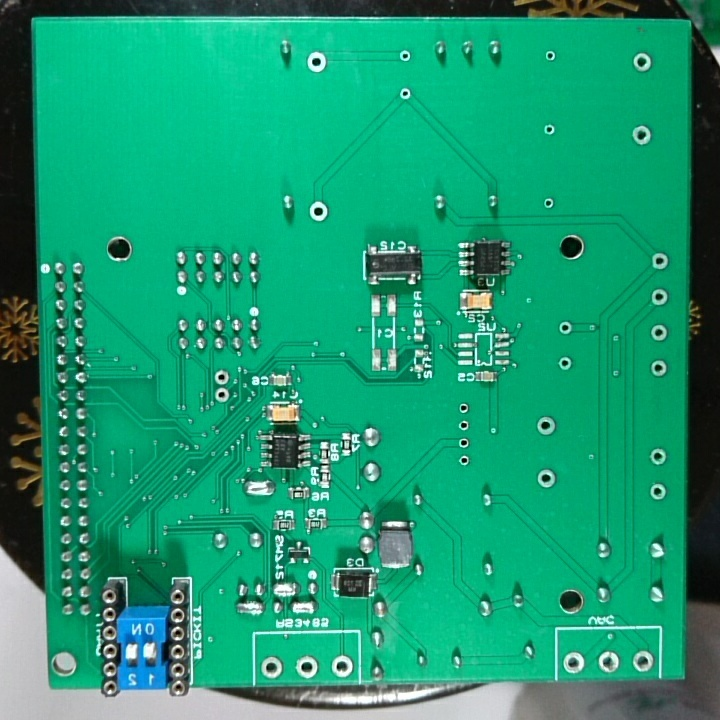F: (594, 648, 622, 675), (259, 652, 285, 680), (562, 649, 588, 676), (329, 652, 355, 679), (631, 49, 656, 77), (294, 654, 320, 680), (534, 464, 559, 491), (305, 48, 329, 76), (307, 199, 332, 225), (631, 649, 656, 674), (630, 123, 654, 148), (534, 414, 557, 440), (649, 249, 671, 274), (648, 286, 671, 309), (647, 444, 668, 469), (648, 356, 669, 380), (648, 322, 670, 344), (555, 352, 576, 375), (647, 482, 668, 504), (396, 46, 417, 67), (211, 386, 231, 406), (540, 120, 559, 140), (454, 398, 473, 418), (211, 367, 231, 386), (455, 433, 474, 452), (454, 452, 474, 470), (557, 318, 574, 339), (396, 85, 414, 104), (539, 194, 557, 212), (542, 47, 559, 65), (454, 417, 473, 433)
P: (241, 477, 278, 500), (233, 598, 267, 619), (288, 596, 319, 615), (271, 580, 302, 598)
